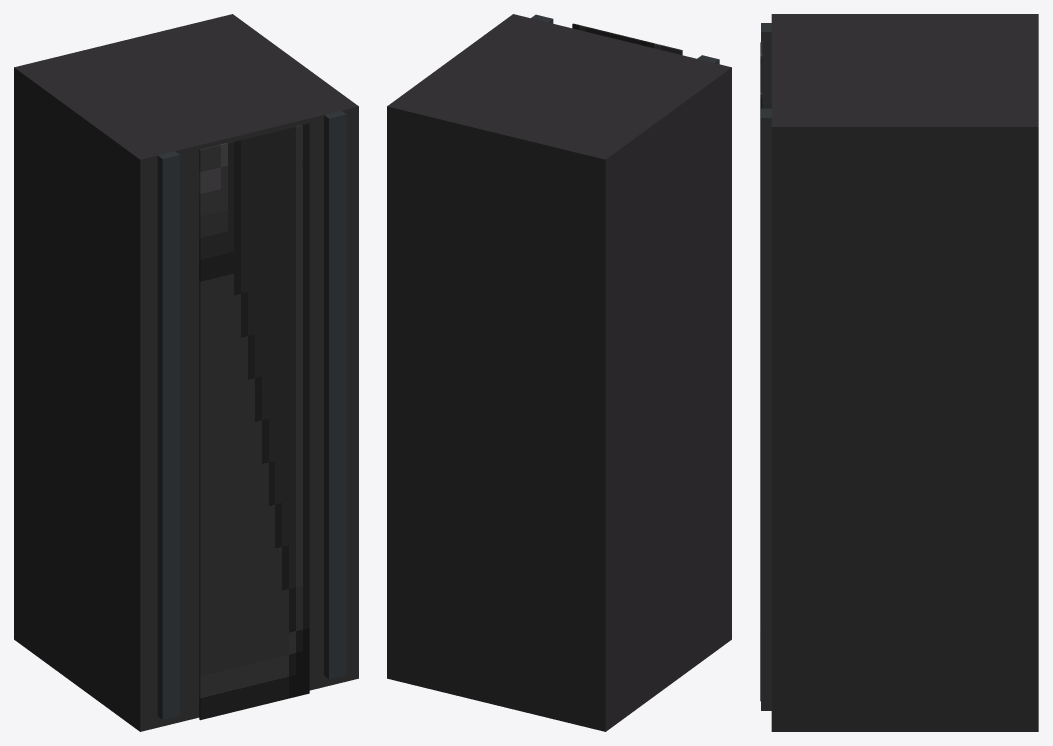
The model's file is CMU3DReduxRMCWallElevator.glb.
3 views of the same model, side by side, from view 1: azimuth 30°, elevation 25°; view 2: azimuth 150°, elevation 25°; view 3: azimuth 270°, elevation 25° (orthographic). The views are drawn at different scales.
Visible parts, largest first — view 1: elevator shaft wall, source face, lift guide rail (×2); view 2: elevator shaft wall, source face; view 3: elevator shaft wall, lift guide rail (×2), source face.
Part boxes in pixels (x1,y1,x2,y2): elevator shaft wall: (14, 14, 358, 731); source face: (199, 123, 309, 720); lift guide rail (×2): (157, 110, 346, 719); elevator shaft wall: (387, 14, 731, 731); source face: (572, 23, 682, 55); elevator shaft wall: (771, 14, 1038, 731); lift guide rail (×2): (761, 23, 771, 710); source face: (760, 42, 762, 701).
Bounding box in the file's own units: 1 × 2.5 × 1.04.
Materials: 3 (1 with a texture image).
